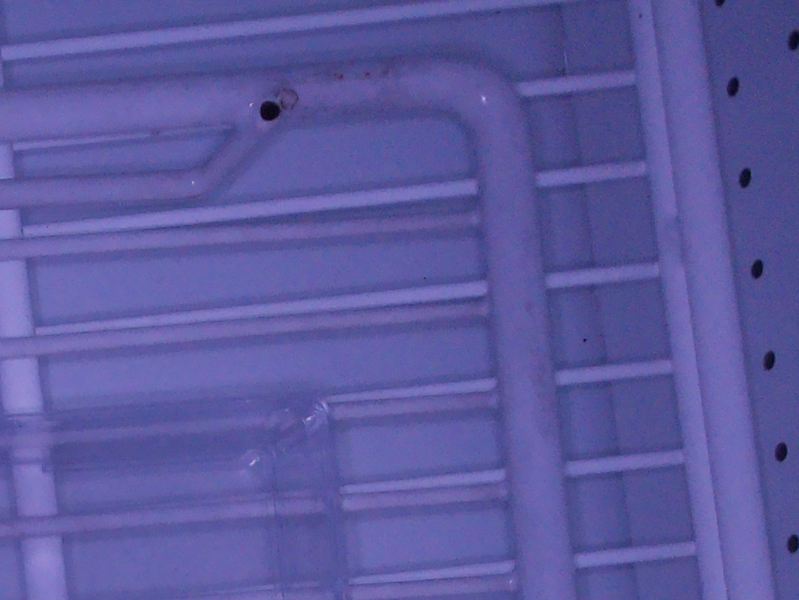plate: (1, 392, 350, 600)
